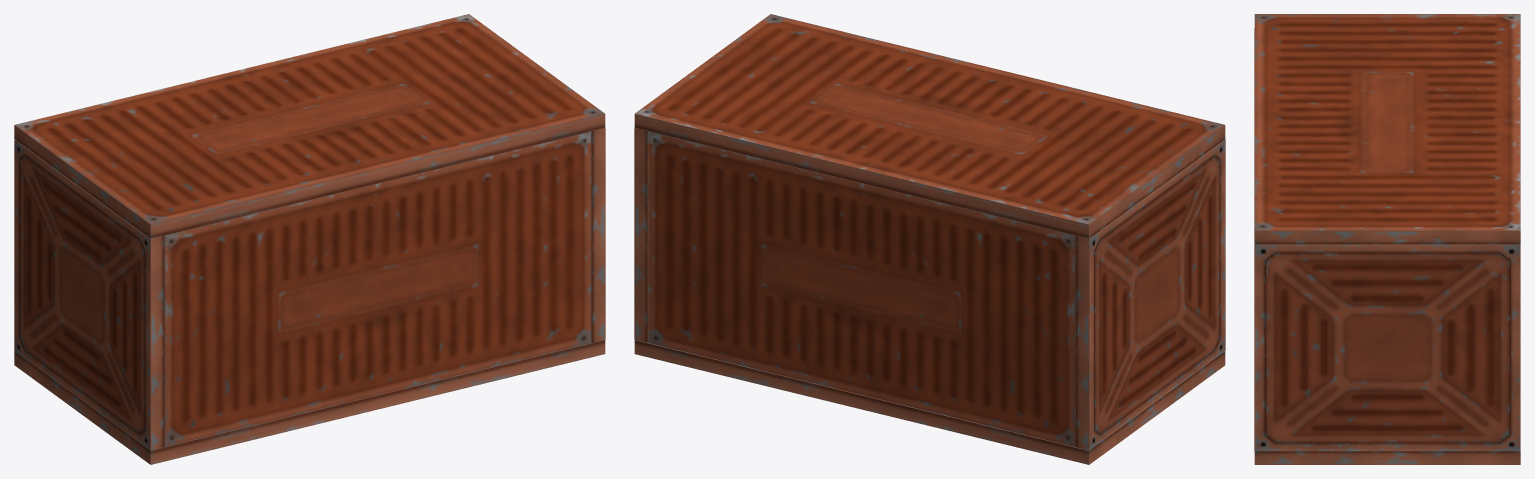
File: Crate_01.FBX
The picture shows the model from 3 angles, left to right: view 1: azimuth 30°, elevation 25°; view 2: azimuth 150°, elevation 25°; view 3: azimuth 270°, elevation 25°; orthographic projection. The views are drawn at different scales.
Parts seen in each view (by area): view 1: Body, Top; view 2: Body, Top; view 3: Top, Body.
Part boxes in pixels (bbox=[...]): Body: bbox=[14, 128, 605, 464]; Top: bbox=[14, 14, 605, 238]; Body: bbox=[634, 128, 1225, 464]; Top: bbox=[634, 14, 1225, 238]; Top: bbox=[1254, 14, 1520, 244]; Body: bbox=[1254, 28, 1520, 464].
Size of the model in its own units: 1.24 by 0.6264 by 0.6444.
